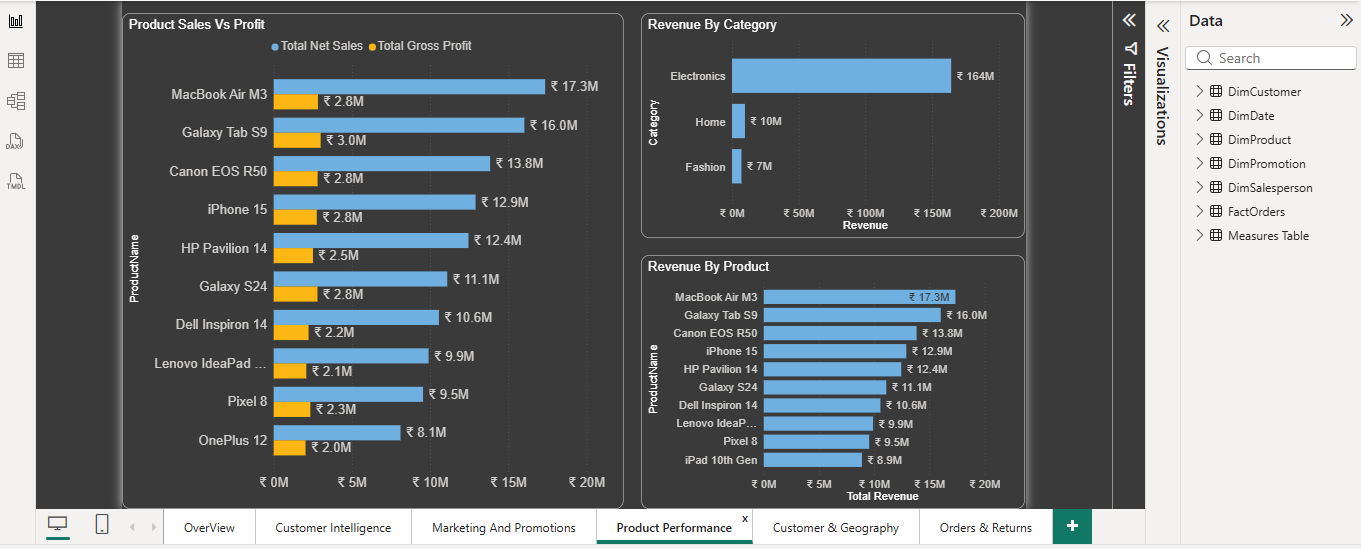

This screenshot's page, from the dashboard's own definition file:
{"tool":"powerbi","page":{"name":"Product Performance","canvas":[1280,720],"ordinal":3},"visuals":[{"type":"barChart","title":"Revenue By Product","fields":{"Category":["DimProduct.ProductName"],"Y":["Measures Table.Total Net Sales"]},"box":[735.6,360,544.3,360],"z":0},{"type":"clusteredBarChart","title":"Revenue By Category","fields":{"Category":["DimProduct.Category"],"Y":["Measures Table.Total Net Sales"]},"box":[735.6,17,544.3,318.9],"z":1000},{"type":"clusteredBarChart","title":"Product Sales Vs Profit","fields":{"Category":["DimProduct.ProductName"],"Y":["Measures Table.Total Net Sales","Measures Table.Total Gross Profit"]},"box":[0,17,711.5,703],"z":2000}]}

Visuals, with their boxes on the page's 1280x720 design canvas (x1, y1, x2, y2). These are canvas units, not pixel positions in the 1361x549 screenshot, which may show the page scaled, cropped or inside an application window:
"Revenue By Product" barChart: {"x1": 736, "y1": 360, "x2": 1280, "y2": 720}
"Revenue By Category" clusteredBarChart: {"x1": 736, "y1": 17, "x2": 1280, "y2": 336}
"Product Sales Vs Profit" clusteredBarChart: {"x1": 0, "y1": 17, "x2": 712, "y2": 720}
